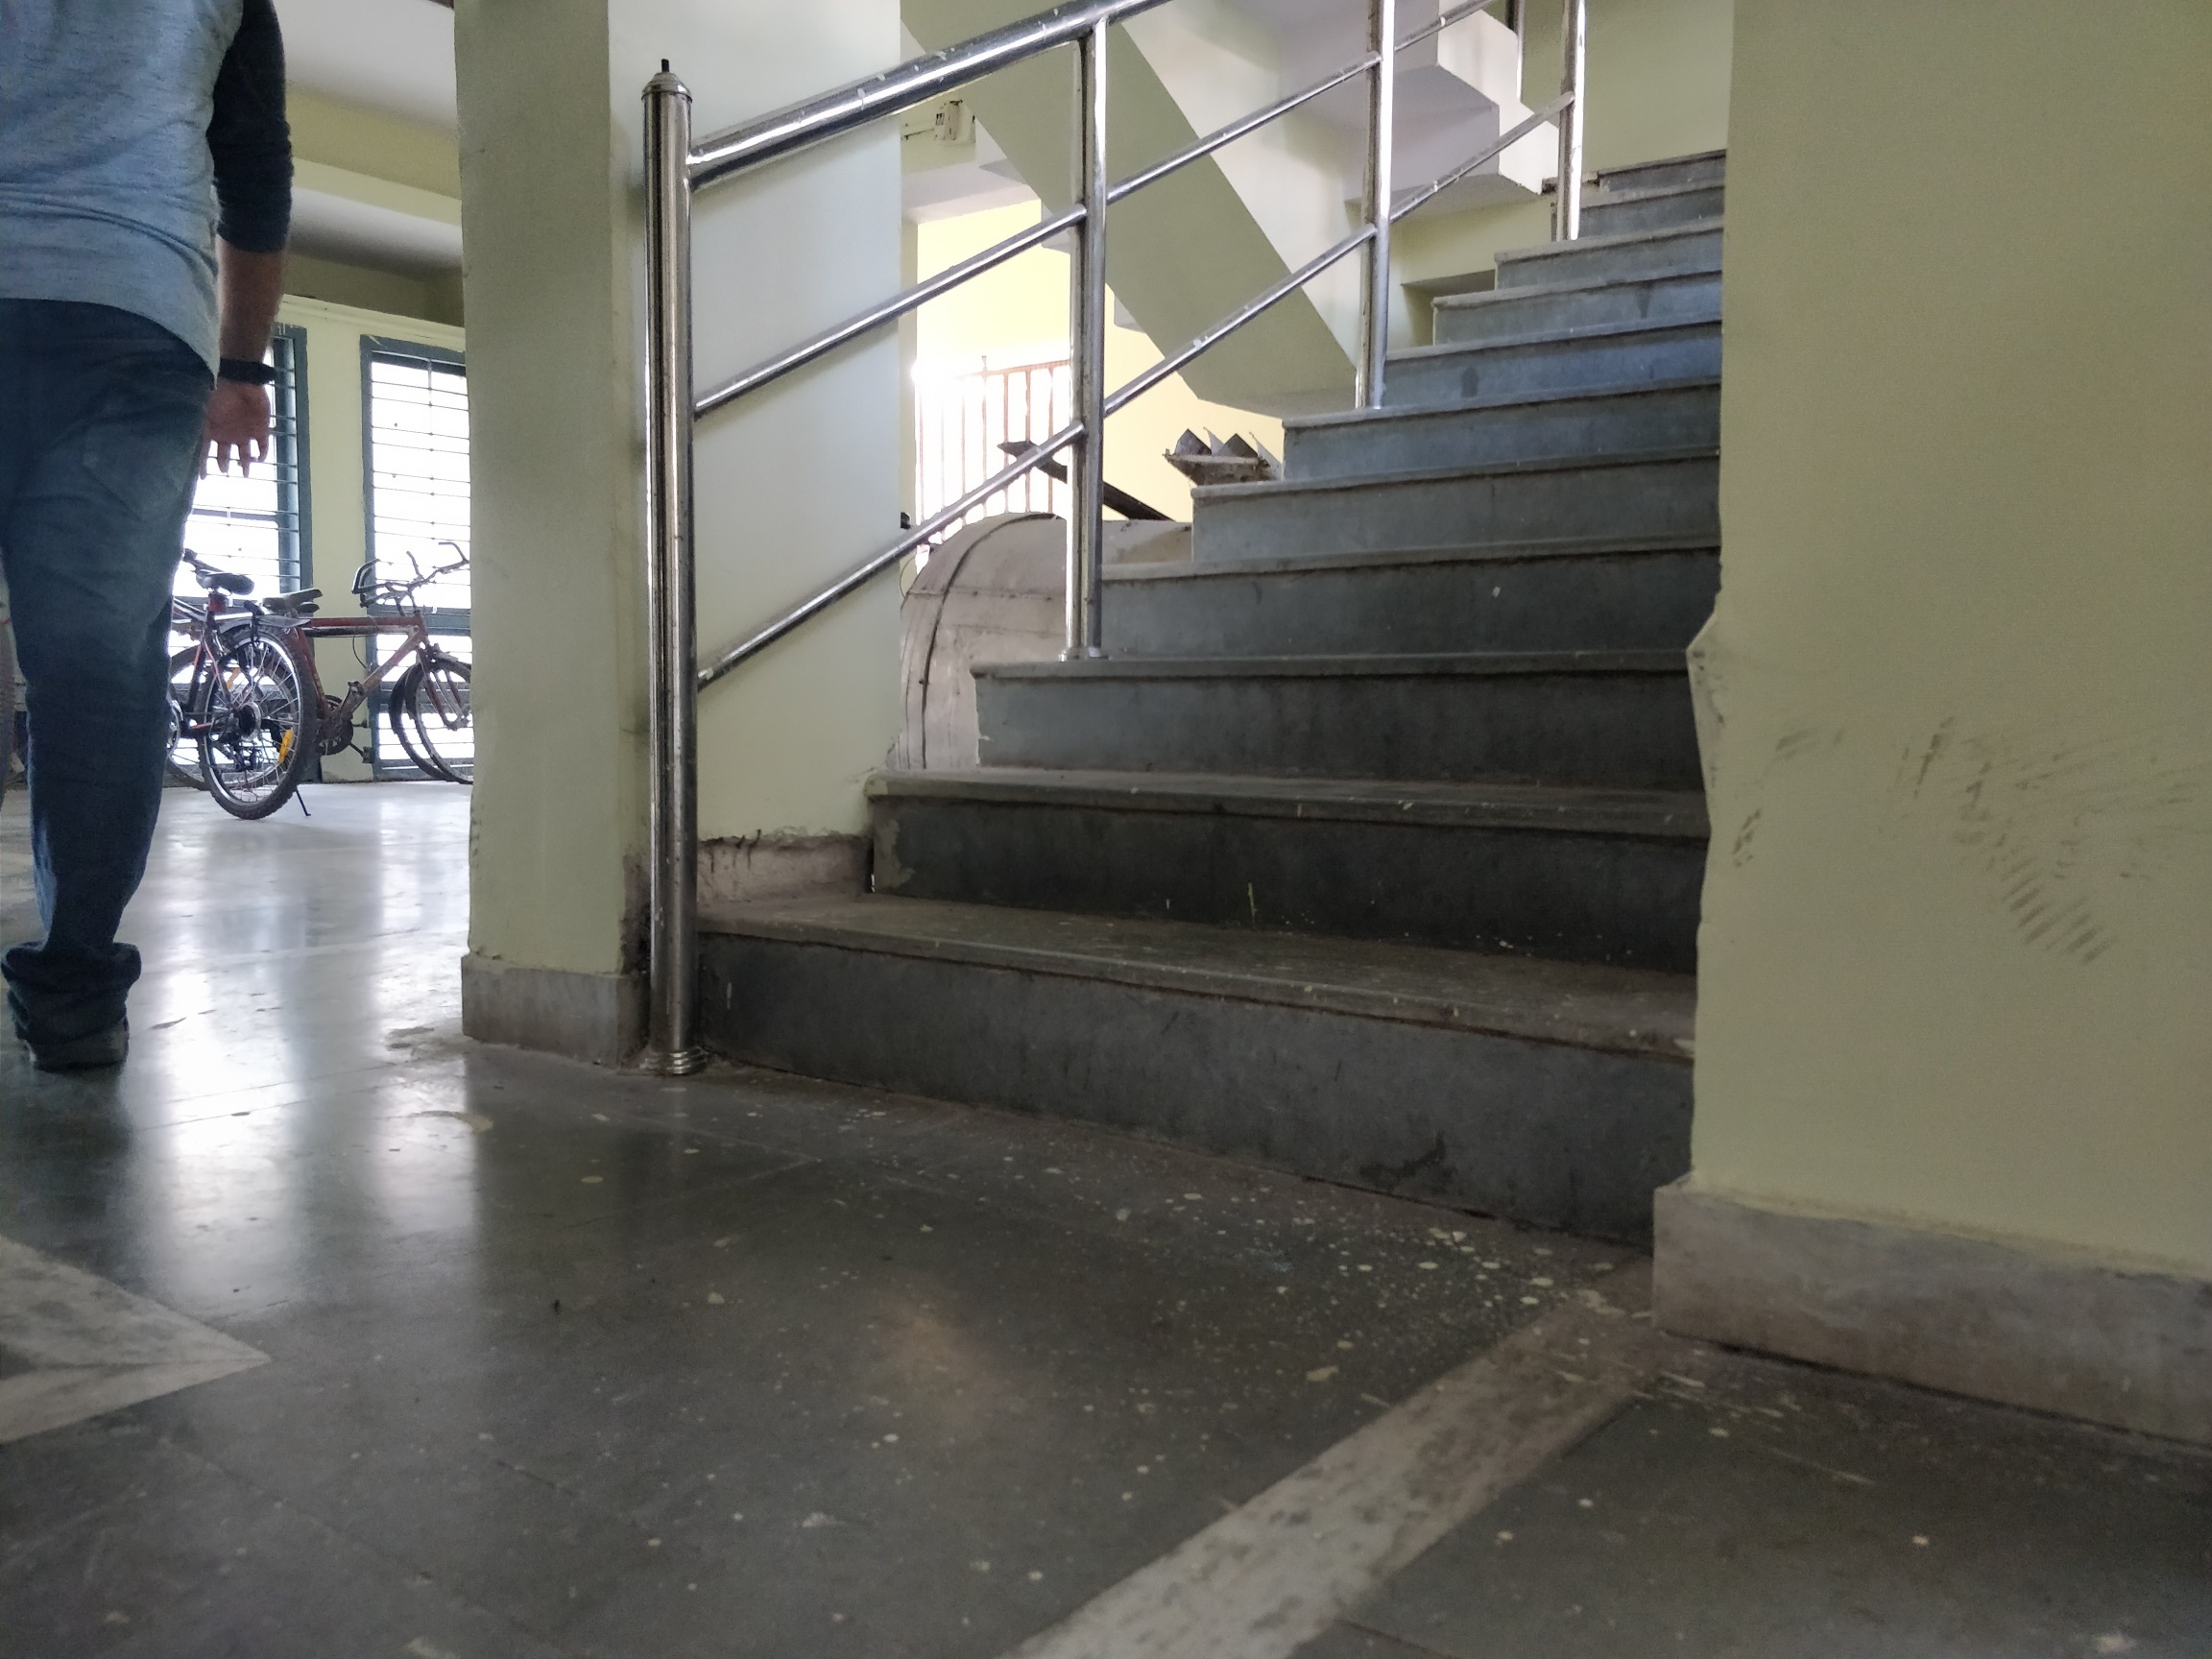stairs_up: (641, 129, 1728, 1232)
